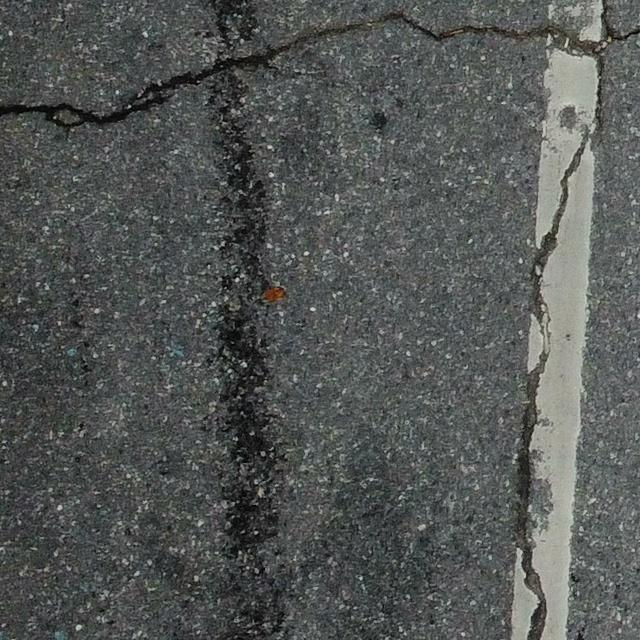LongitudinalCrack: (512, 60, 606, 640)
TransverseCrack: (1, 11, 640, 127)
